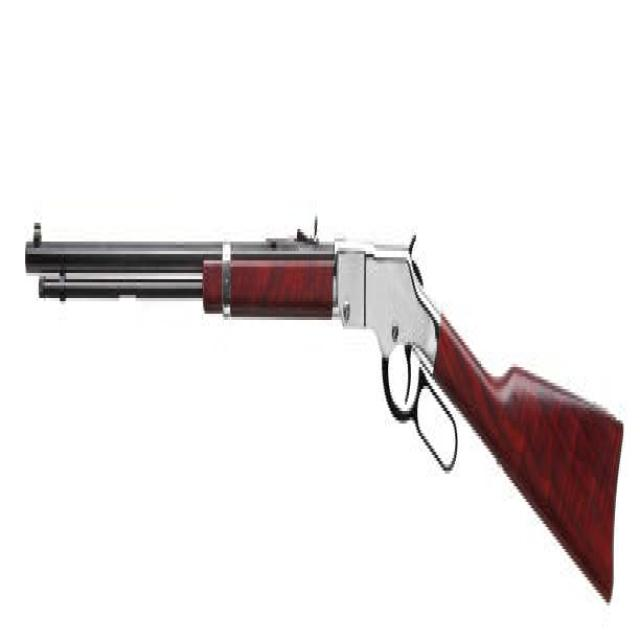rifle: (17, 212, 625, 613)
